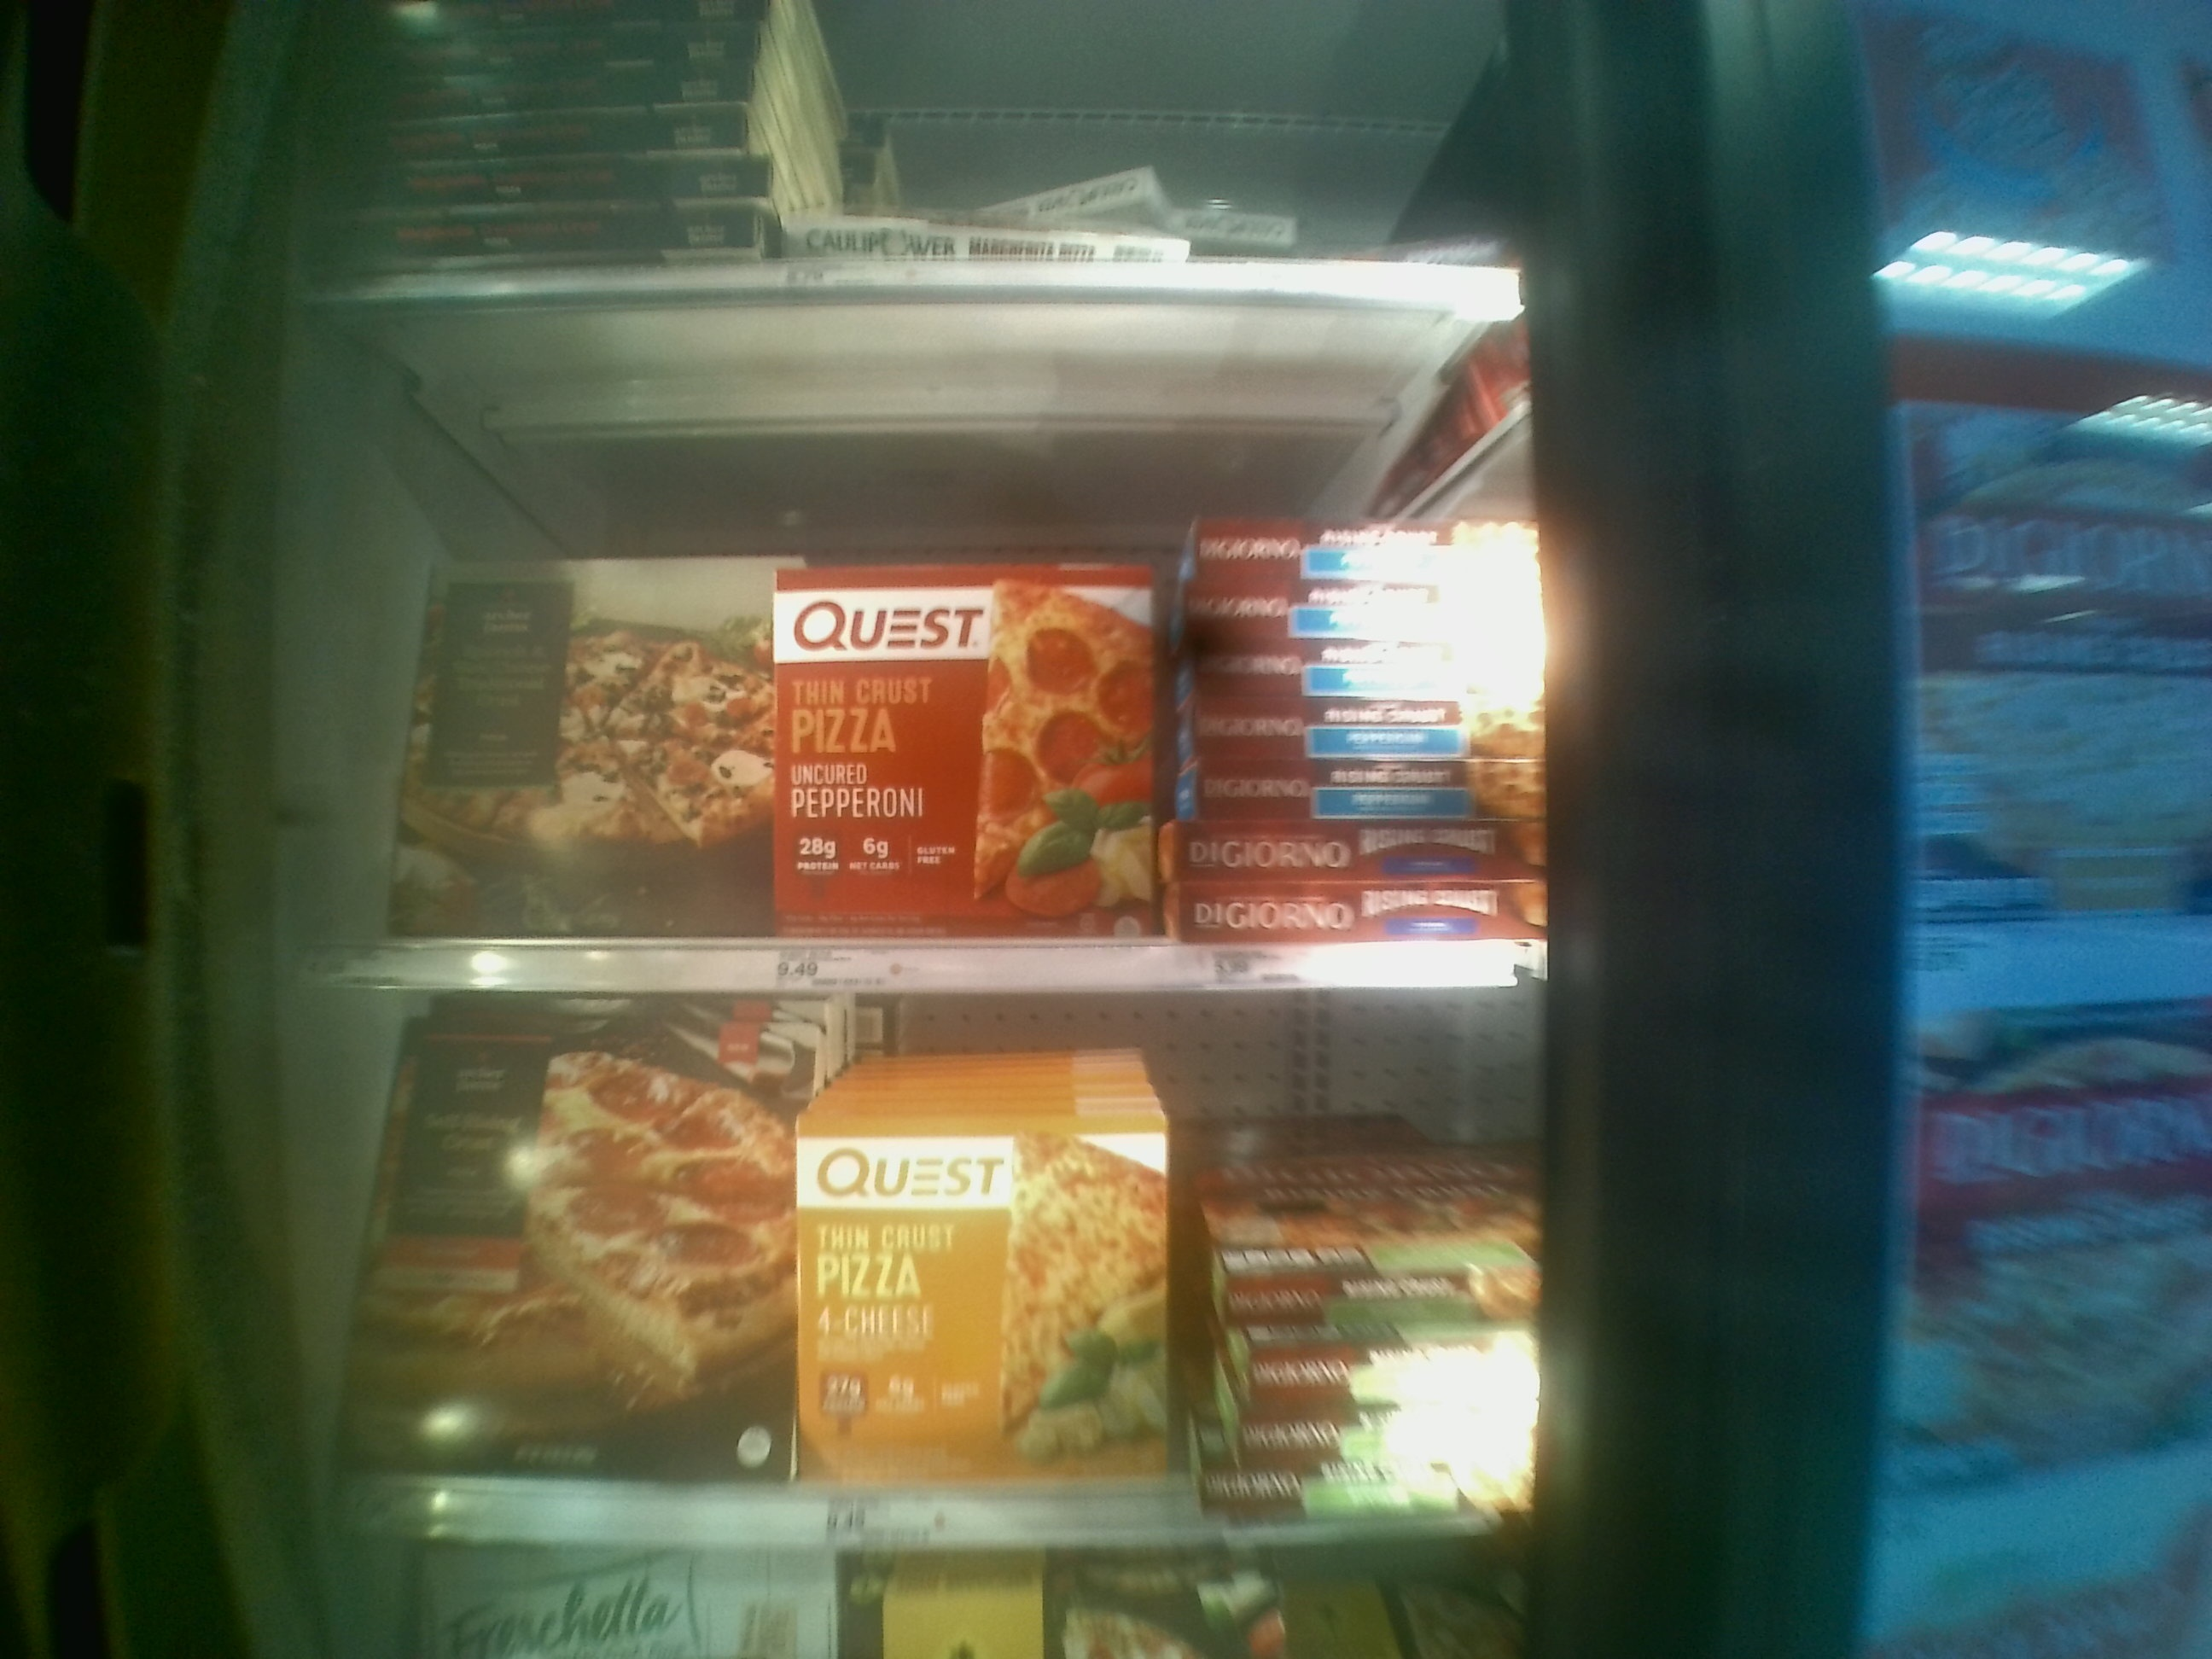shelf: (329, 284, 1548, 995), (336, 972, 1545, 1542)
